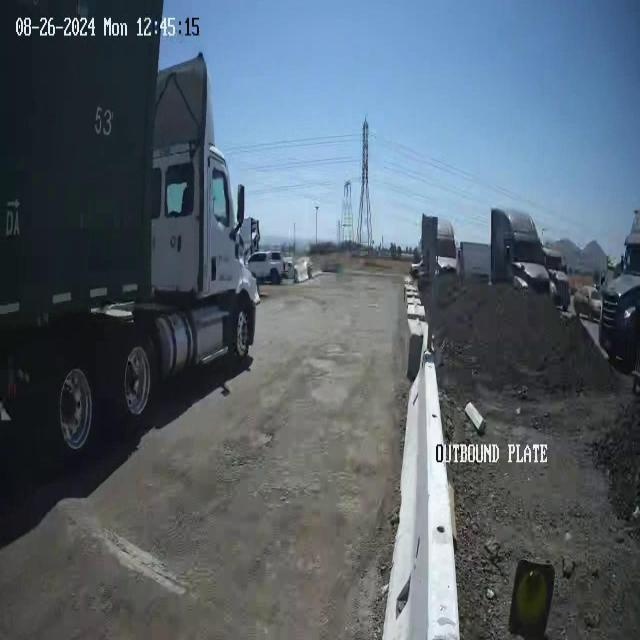TRUCK_IN: (1, 1, 260, 467)
